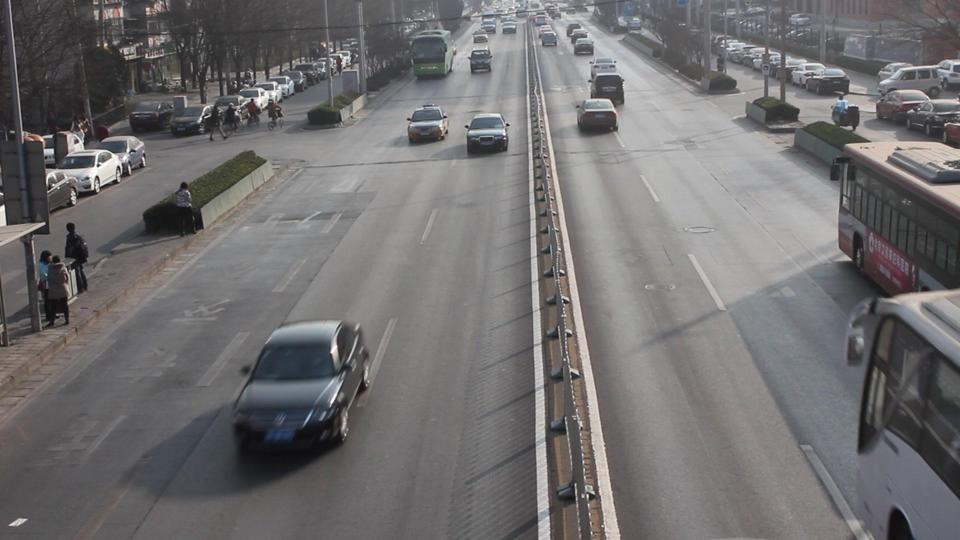car: (232, 318, 375, 455), (59, 149, 121, 195), (878, 65, 948, 99), (906, 98, 960, 136), (95, 136, 147, 175), (872, 89, 931, 123), (791, 63, 848, 95), (466, 114, 510, 154), (406, 104, 450, 143), (128, 98, 176, 132), (169, 106, 220, 137), (576, 99, 620, 134), (46, 170, 79, 212), (590, 71, 626, 109), (237, 84, 280, 106), (588, 55, 619, 79), (269, 75, 297, 98), (470, 49, 493, 74), (942, 120, 960, 147), (470, 33, 492, 53), (573, 36, 595, 55), (499, 17, 518, 34), (539, 30, 558, 47)
